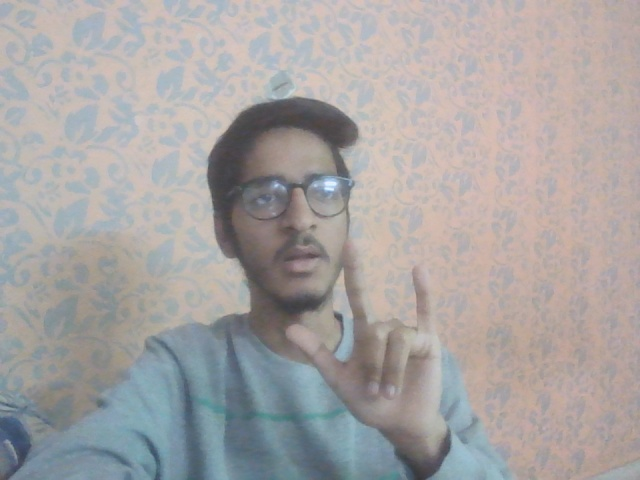ILoveYou: (280, 234, 451, 435)
